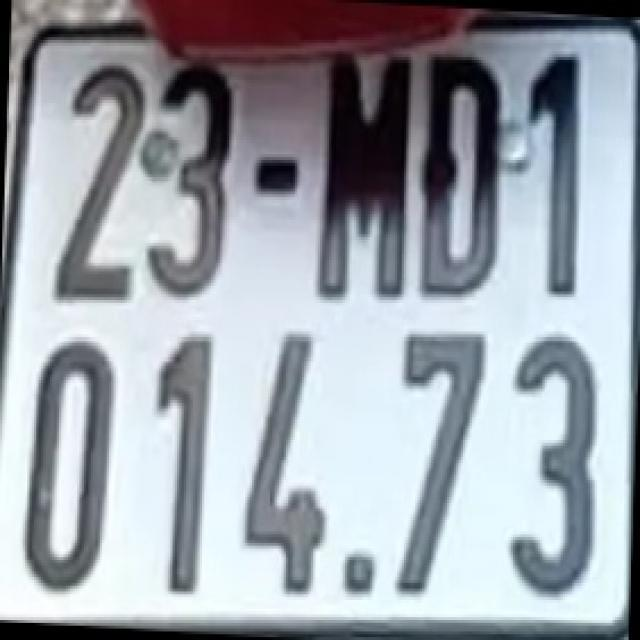0: (20, 334, 120, 594)
1: (147, 326, 220, 594), (526, 52, 586, 294)
2: (52, 60, 143, 303)
3: (508, 332, 600, 594), (150, 60, 234, 297)
4: (240, 326, 332, 598)
7: (395, 326, 483, 594)
D: (419, 51, 502, 298)
M: (313, 48, 411, 300)
